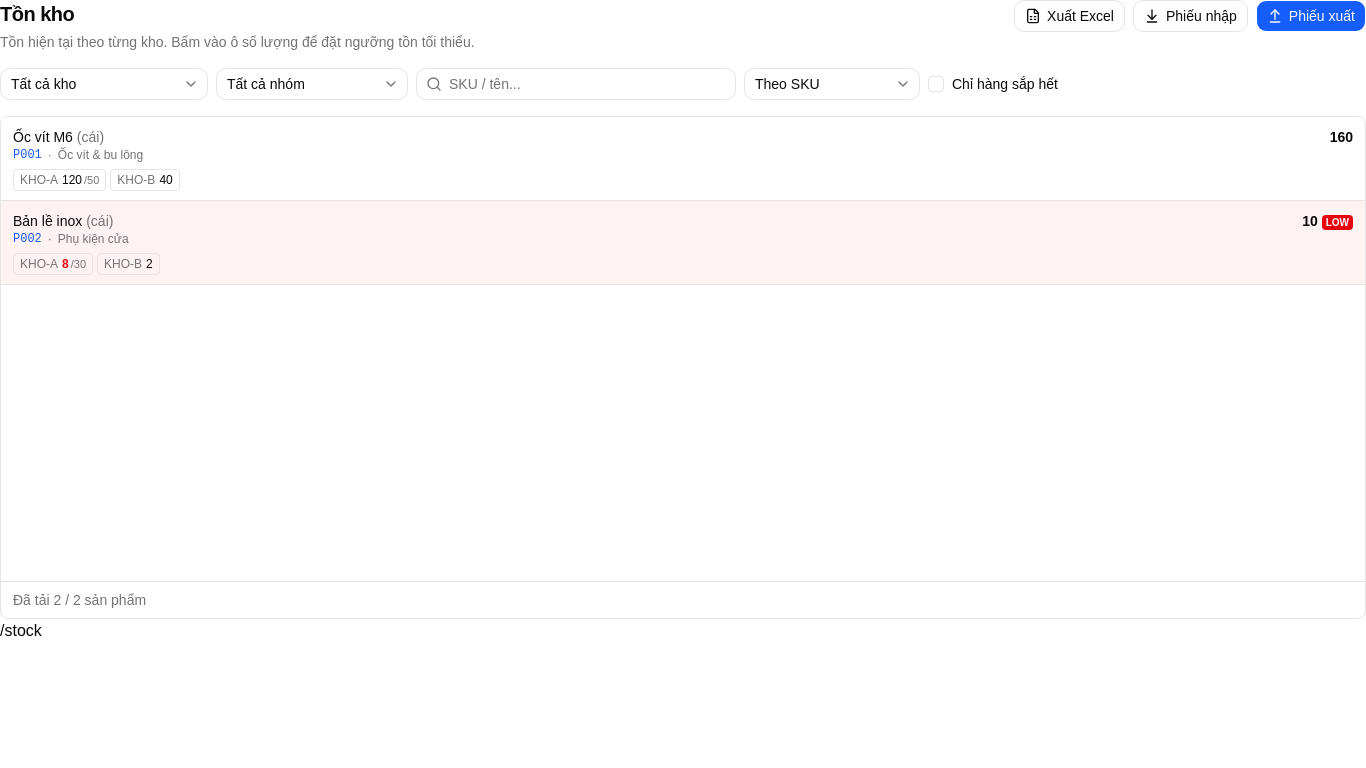
Scenario: StockPage › manager edits a threshold from a quantity cell
Click the button with aria-label "P002 tại KHO-A: 8, dưới ngưỡng": {"x": 53, "y": 264} x1=13 y1=252 x2=93 y2=274
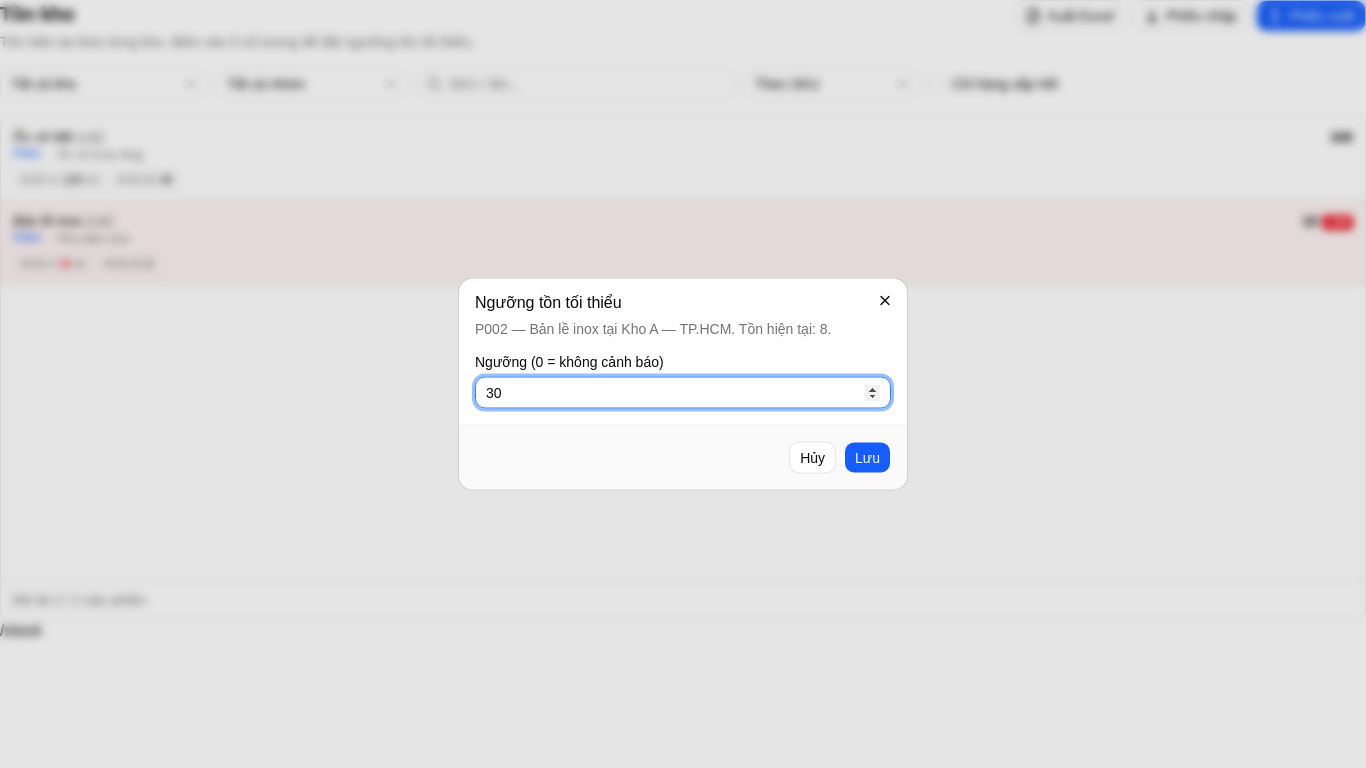
Clear the number field labelled "Ngưỡng (0 = không cảnh báo)": {"x": 683, "y": 392} x1=475 y1=376 x2=891 y2=408
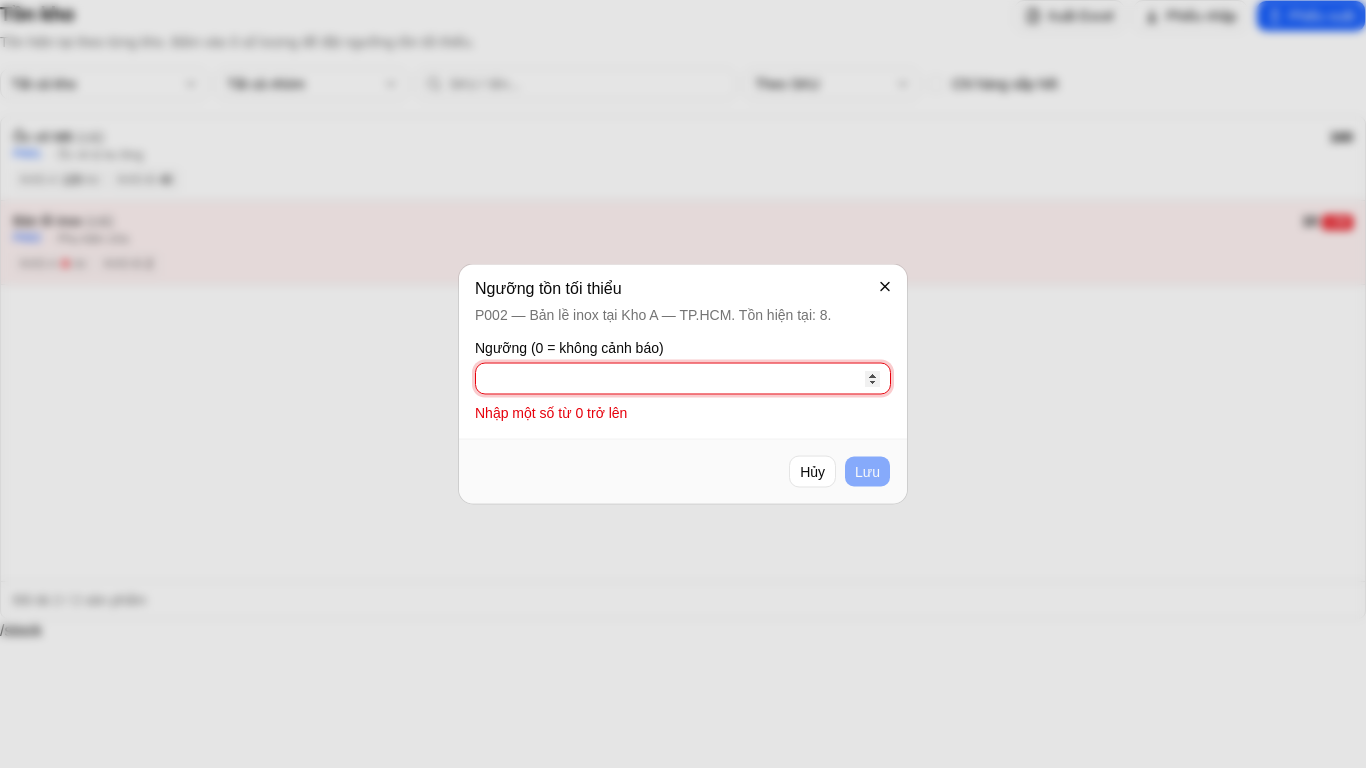
In the number field labelled "Ngưỡng (0 = không cảnh báo)": {"x": 683, "y": 378} x1=475 y1=362 x2=891 y2=394, type "25"
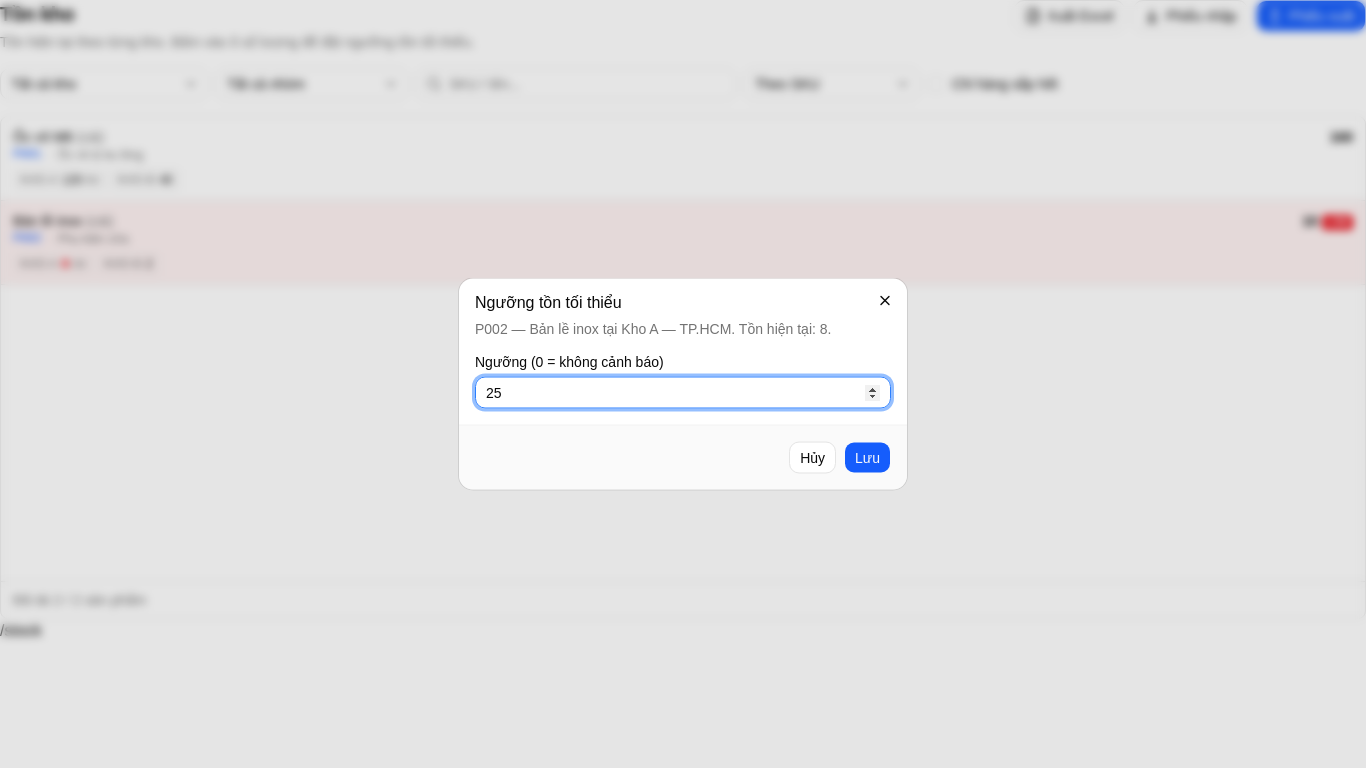
Click the button "Lưu": {"x": 868, "y": 458} x1=844 y1=442 x2=891 y2=474
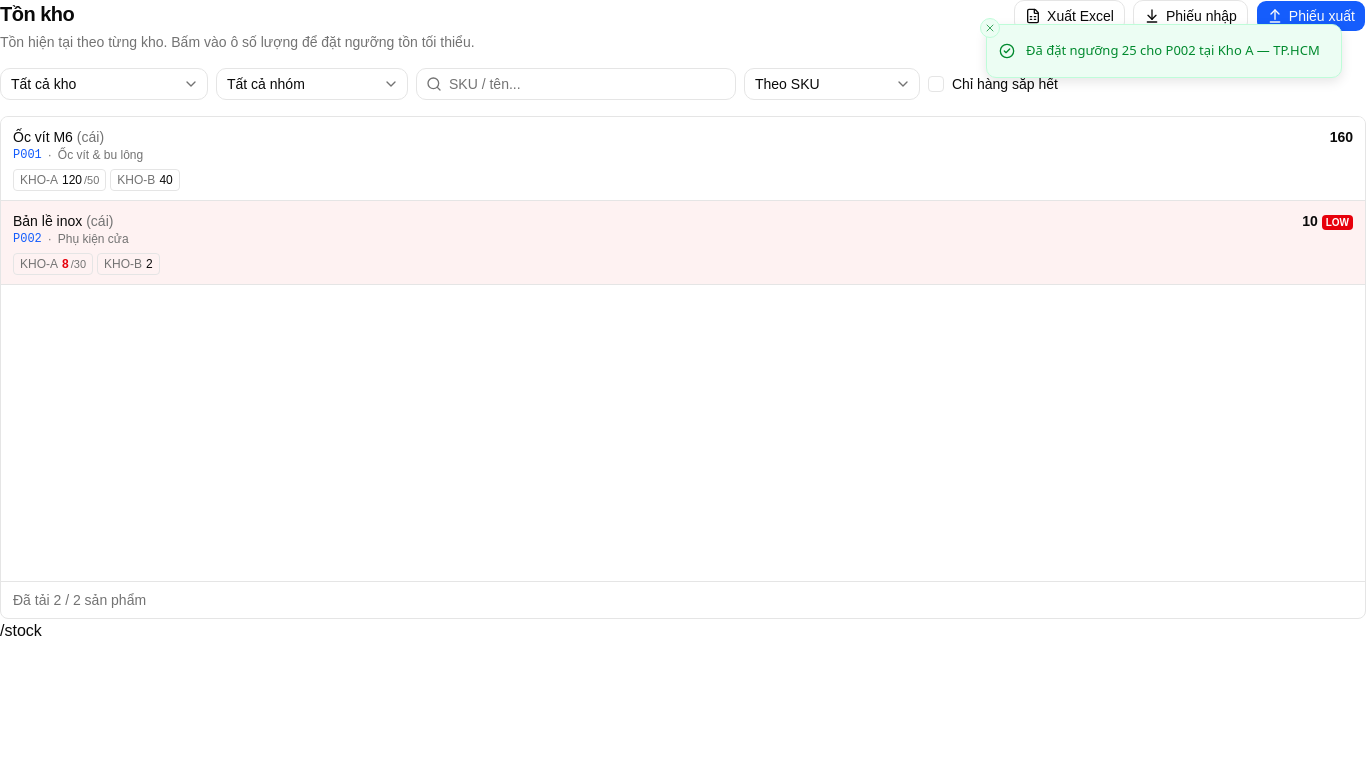
Check: the text "Đã đặt ngưỡng 25 cho P002 tại Kho A — TP.HCM" is shown, box x1=1026 y1=41 x2=1320 y2=60
